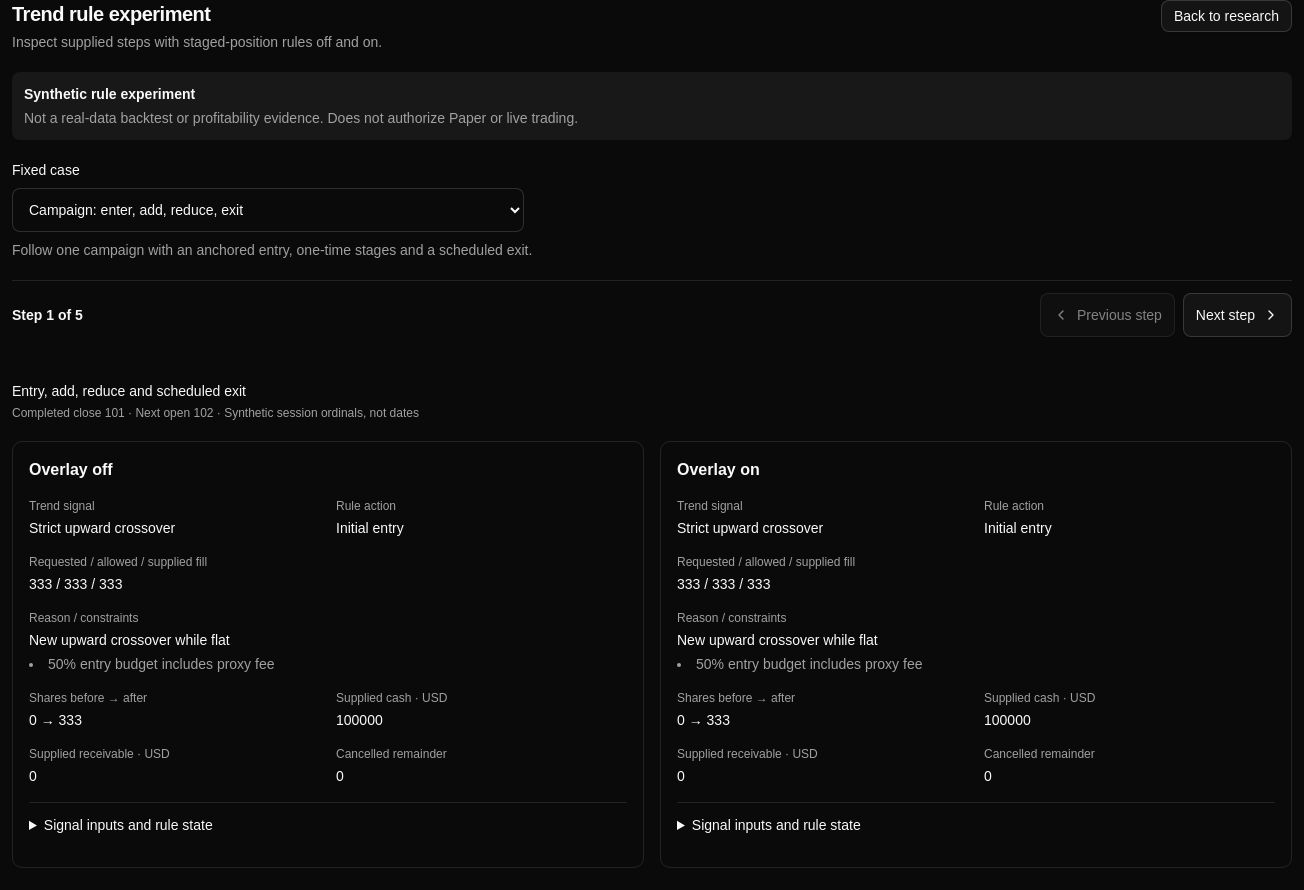
it: fixed synthetic trend step inspector › keeps synthetic boundaries visible and compares one selected step without strategy math in UI
The image size is (1304, 890).
Expected: the heading "Overlay on" is shown, x1=677 y1=461 x2=760 y2=478
Expected: the text "Does not authorize Paper" is shown, x1=24 y1=110 x2=578 y2=126
Click the button "Next step": click(1237, 315) x1=1183 y1=293 x2=1292 y2=337
(page scrolled)
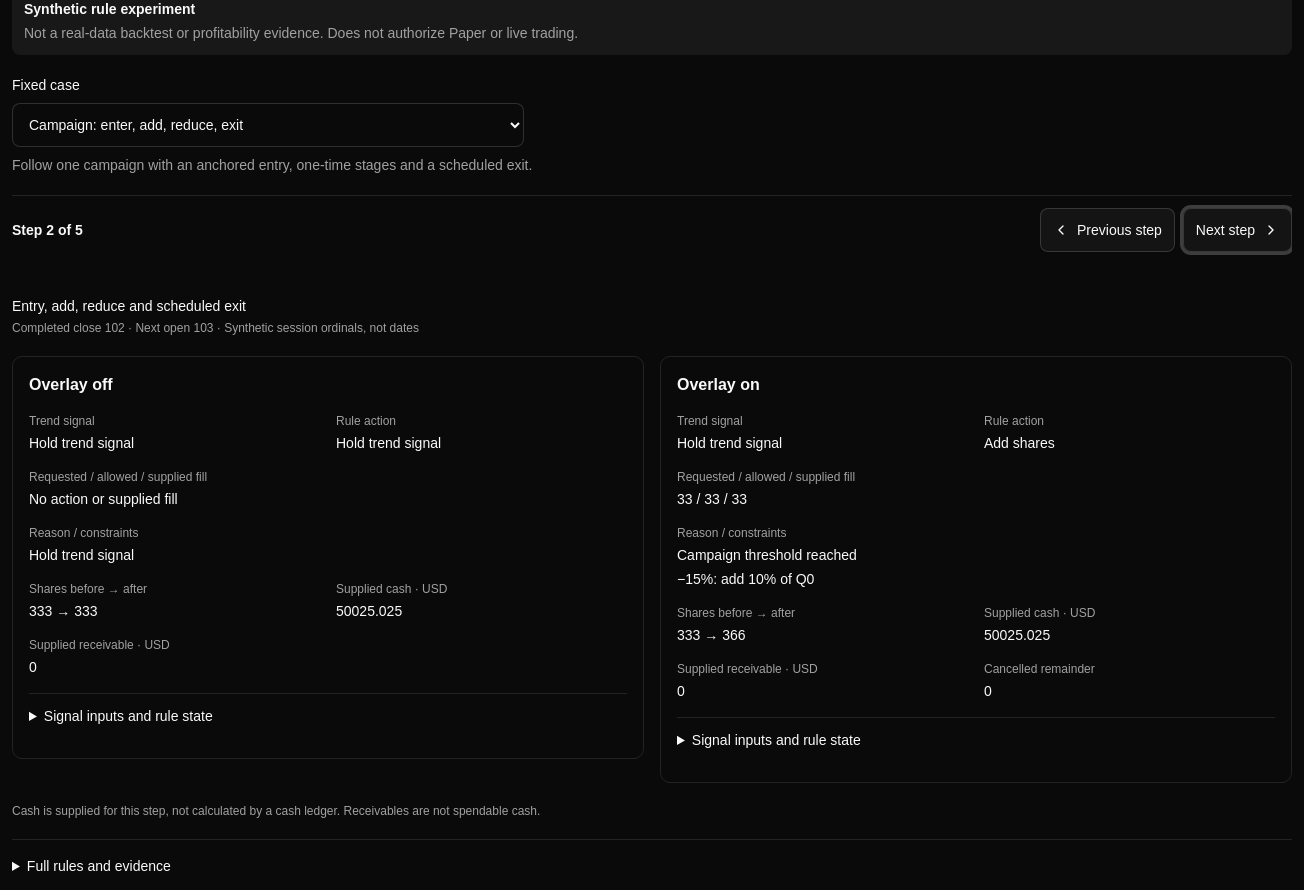
Now the text "Step 2 of 5" is shown, box x1=12 y1=220 x2=83 y2=240
Now the text "Add shares" is shown, box x1=984 y1=435 x2=1055 y2=451
Now the text "333 → 366" is shown, box x1=677 y1=627 x2=746 y2=643
